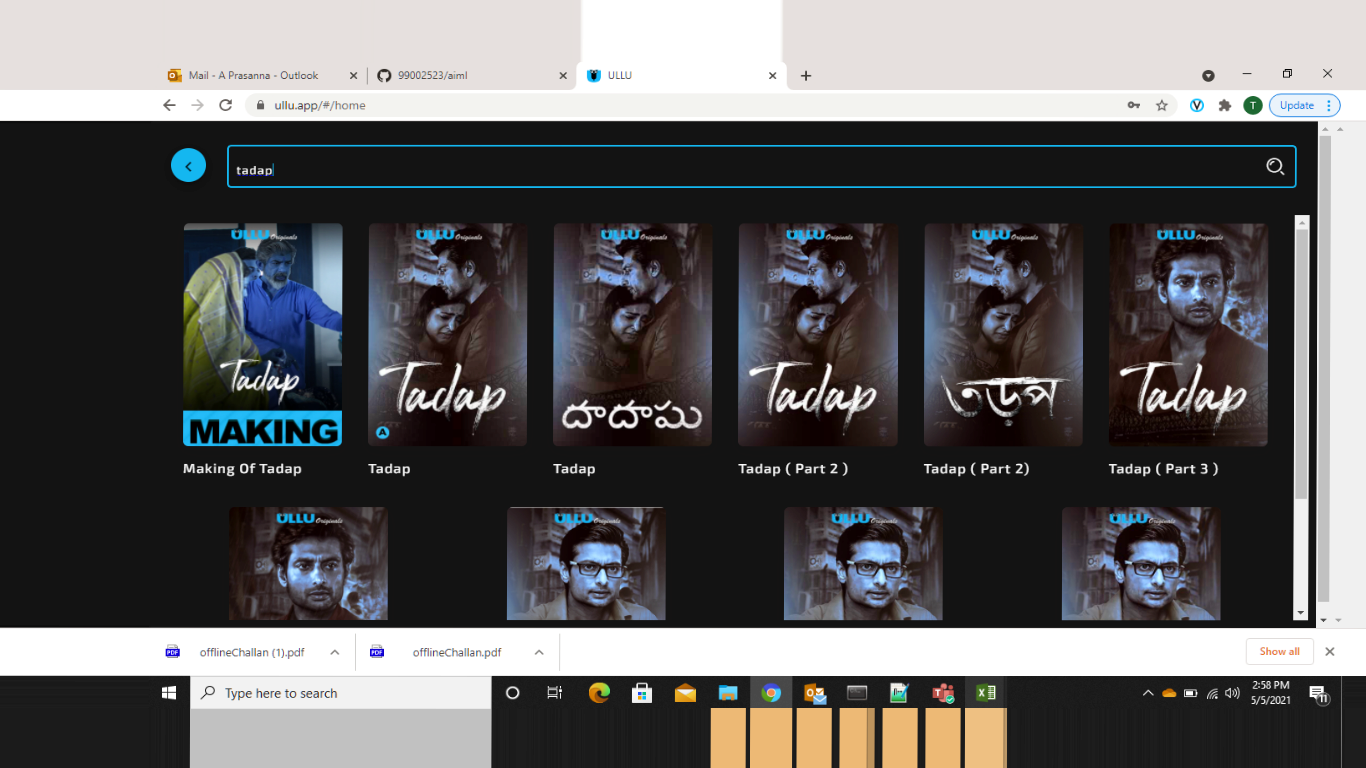backbutton: (163, 137, 222, 194)
searchicon: (1248, 141, 1293, 192)
searchtextbox: (219, 131, 1307, 204)
